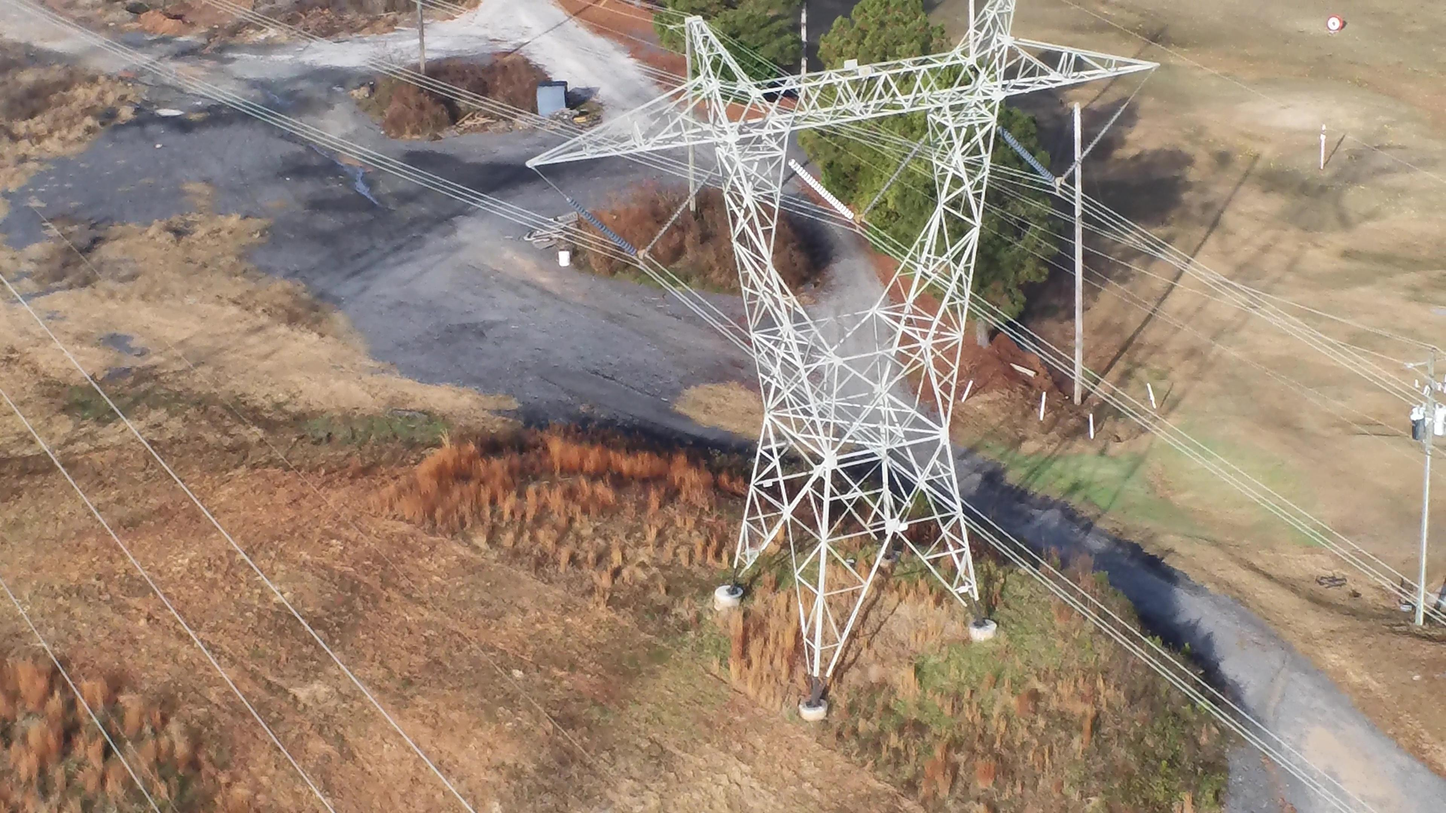power_tower: (524, 0, 1162, 696)
